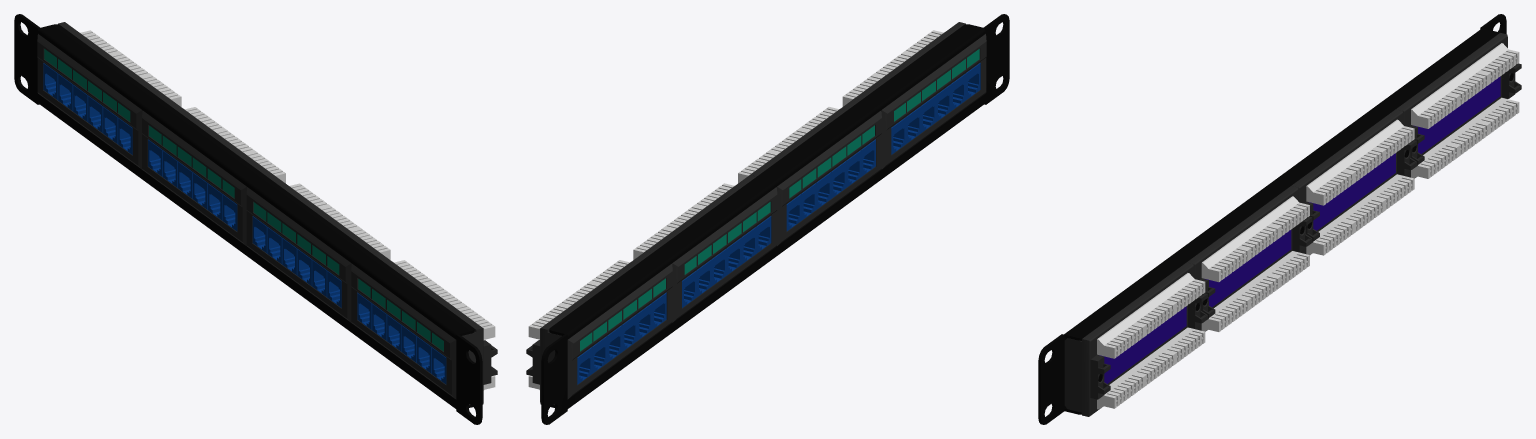
The model's file is Патч панель 24 порта.fbx.
3 views of the same model, side by side, from view 1: azimuth 30°, elevation 25°; view 2: azimuth 150°, elevation 25°; view 3: azimuth 330°, elevation 25° (orthographic).
Visible parts, largest first — view 1: Корпус патч панели, Пластик крепление для контактов, Крепления ячеек патч панели; view 2: Корпус патч панели, Пластик крепление для контактов, Крепления ячеек патч панели; view 3: Корпус патч панели, Пластик крепление для контактов, Крепления ячеек патч панели, Контакты портов задние.
Part boxes in pixels (x1,y1,x2,y2): Корпус патч панели: (14, 14, 483, 424); Пластик крепление для контактов: (79, 30, 495, 390); Крепления ячеек патч панели: (483, 340, 497, 384); Корпус патч панели: (540, 14, 1009, 424); Пластик крепление для контактов: (528, 30, 944, 389); Крепления ячеек патч панели: (526, 340, 540, 384); Корпус патч панели: (1038, 14, 1507, 424); Пластик крепление для контактов: (1097, 43, 1519, 409); Крепления ячеек патч панели: (1090, 63, 1521, 399); Контакты портов задние: (1116, 57, 1516, 401).
Bounding box in the file's own units: 0.0295 × 0.0438 × 0.483.
